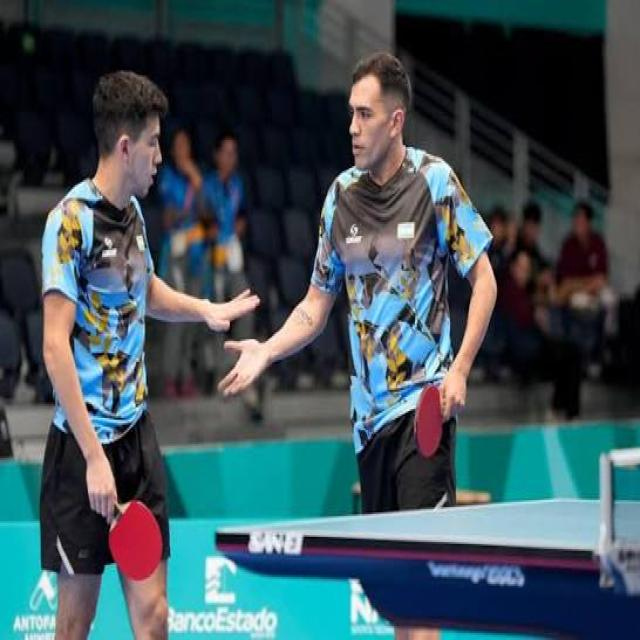TT Net: (595, 449, 639, 567)
TT Racket: (92, 483, 176, 596), (401, 373, 451, 470)
TT Table: (215, 494, 639, 555)
